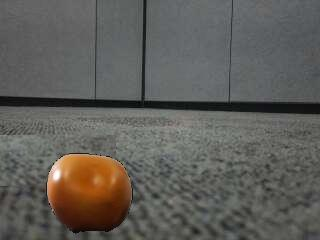Potato: (46, 154, 133, 234)
